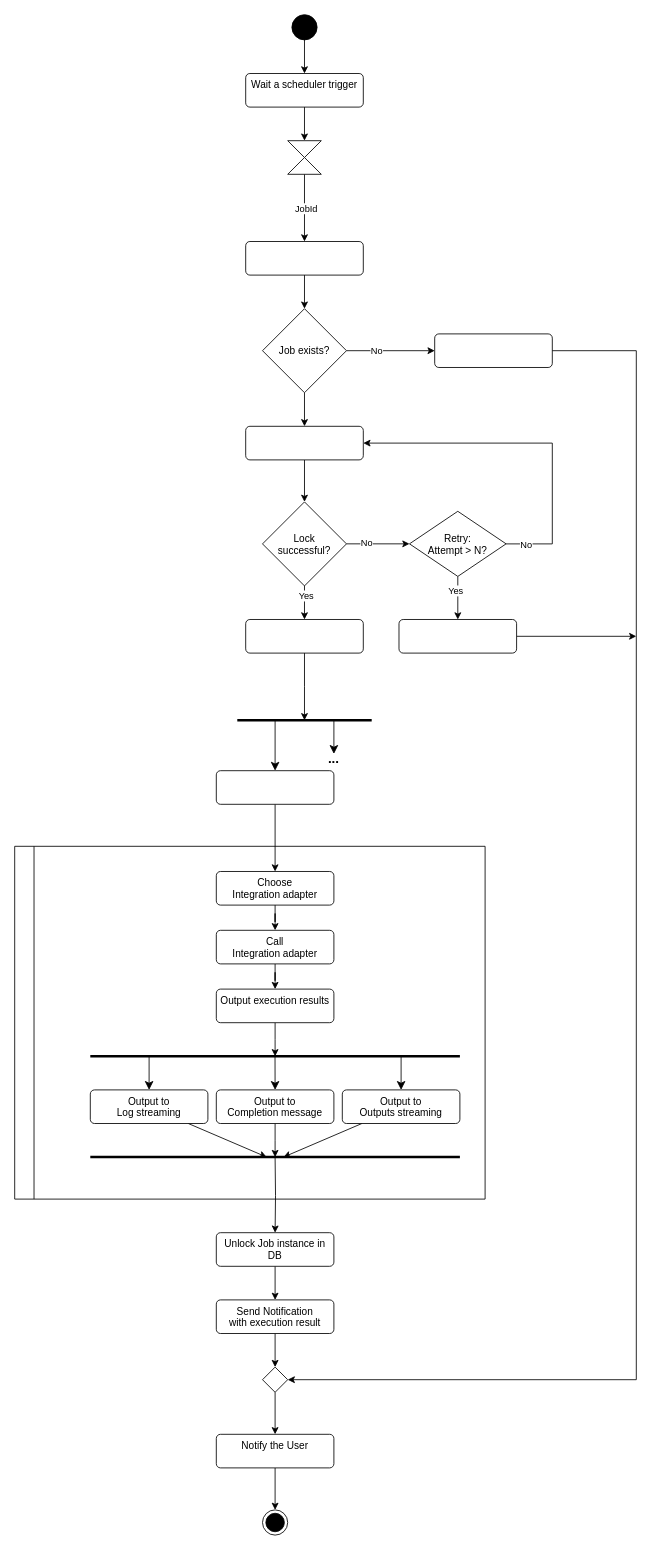
Image size: 658x1550. Some labels were removed from this diagram. The shapes that lost their labels are listed below. From the top down, each one's box as (x1, y1, x2, y2) in pixels, then its label:
(245, 241, 363, 275): Retrieve Job details
(434, 333, 552, 368): Send Notification "Job Not Found"
(245, 425, 363, 460): Lock Job instance in DB
(245, 619, 363, 653): Parallel concurrent Job (if needed)
(398, 619, 517, 653): Send Notification "Cannot lock Job"
(215, 770, 334, 804): Trigger Job Runner
(14, 845, 485, 1199): Job Runner
